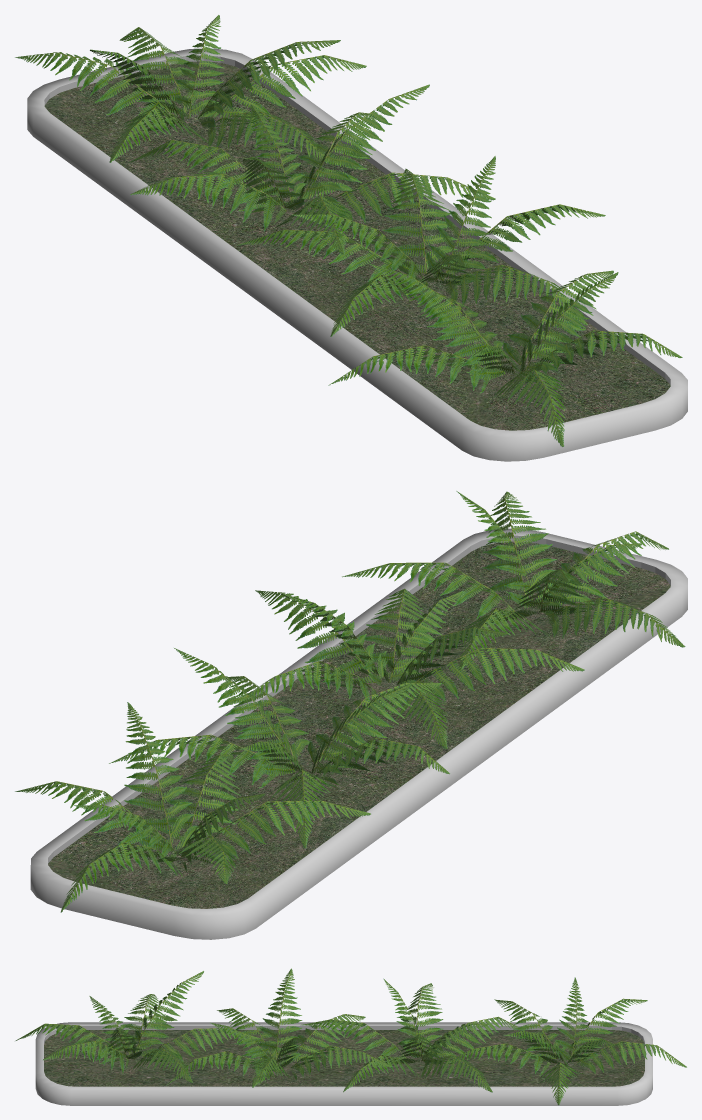
The model's file is Garden-05f.fbx.
3 views of the same model, one above another, from view 1: azimuth 30°, elevation 25°; view 2: azimuth 150°, elevation 25°; view 3: azimuth 270°, elevation 25° (orthographic). The views are drawn at different scales.
Parts seen in each view (by area): view 1: Garden-05f; view 2: Garden-05f; view 3: Garden-05f.
Boxes of the visible parts, bbox=[...] form: Garden-05f: bbox=[15, 15, 687, 461]; Garden-05f: bbox=[15, 491, 687, 939]; Garden-05f: bbox=[15, 968, 686, 1105].
Size of what is drawn, in the model's own units: 2.4 by 0.7012 by 6.15.
